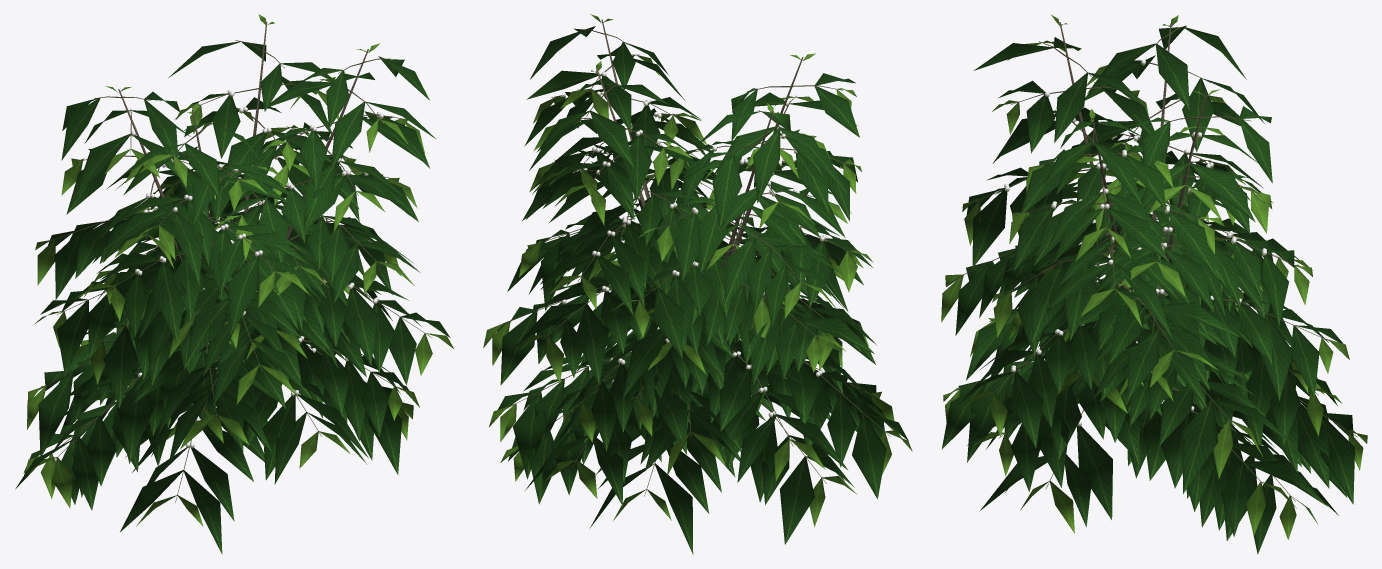
The model's file is coffea-robusta-mature-lod2.glb.
3 renders of one model, left to right at view 1: azimuth 30°, elevation 25°; view 2: azimuth 150°, elevation 25°; view 3: azimuth 270°, elevation 25°, orthographic. The views are drawn at different scales.
Parts seen in each view (by area): view 1: coffee_leaves, coffee_bark, coffee_flowers; view 2: coffee_leaves, coffee_bark, coffee_flowers; view 3: coffee_leaves, coffee_bark, coffee_flowers.
Part boxes in pixels (x1=…): coffee_leaves: x1=15, y1=14, x2=453, y2=554; coffee_bark: x1=38, y1=21, x2=431, y2=502; coffee_flowers: x1=115, y1=90, x2=383, y2=447; coffee_leaves: x1=483, y1=14, x2=912, y2=554; coffee_bark: x1=502, y1=19, x2=890, y2=496; coffee_flowers: x1=561, y1=71, x2=826, y2=416; coffee_leaves: x1=941, y1=14, x2=1367, y2=554; coffee_bark: x1=952, y1=22, x2=1357, y2=501; coffee_flowers: x1=1004, y1=59, x2=1266, y2=425.
Bounding box in the file's own units: 3.18 × 3.33 × 2.85.
Materials: 4 (2 with a texture image).
